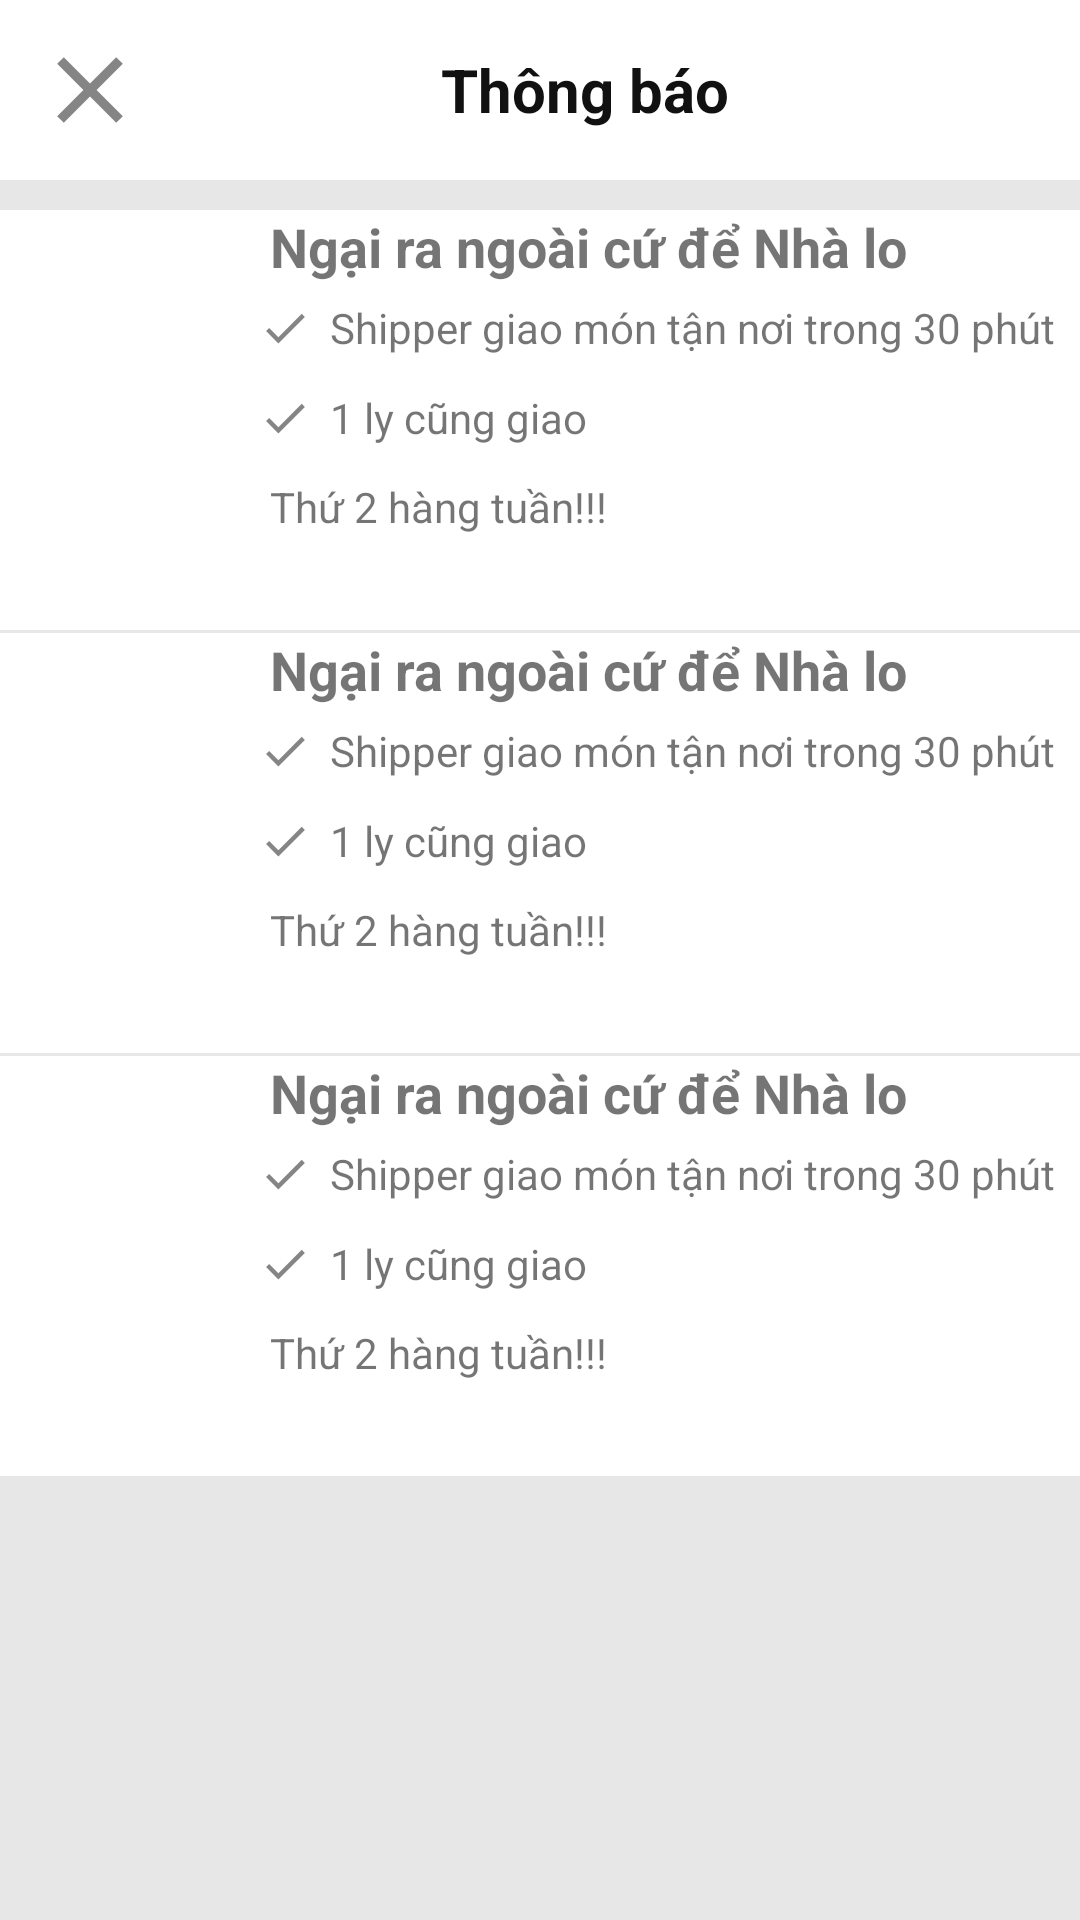

Where icons sit on this 1080*1920 app screen, as (x1, y1, x2, y2):
check: (266, 314, 305, 344), (266, 404, 305, 434), (266, 737, 305, 767), (266, 827, 305, 857), (266, 1160, 305, 1190), (266, 1250, 305, 1280)
clear: (57, 57, 123, 123)
